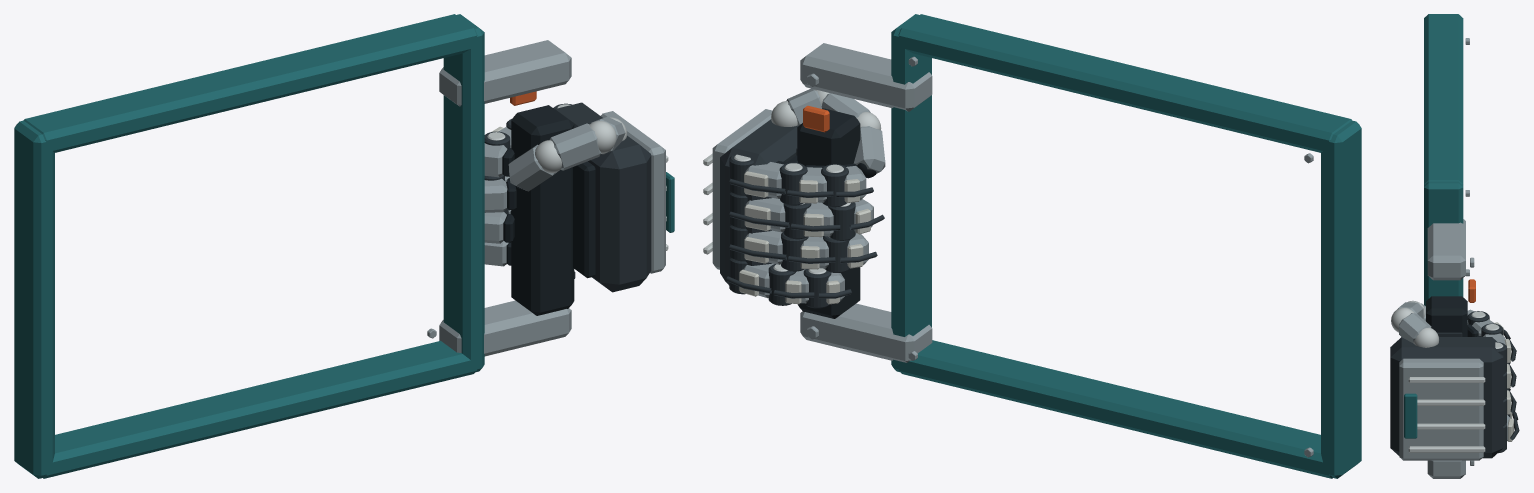
File: tool_scanner.glb
3 renders of one model, left to right at view 1: azimuth 30°, elevation 25°; view 2: azimuth 150°, elevation 25°; view 3: azimuth 270°, elevation 25°, orthographic. The views are drawn at different scales.
Parts seen in each view (by area): view 1: tool, hand; view 2: tool, hand; view 3: hand, tool.
Boxes of the visible parts, <box> form: tool: <box>14,14,575,478</box>; hand: <box>484,102,674,292</box>; tool: <box>796,14,1361,478</box>; hand: <box>703,88,885,308</box>; hand: <box>1390,300,1519,460</box>; tool: <box>1424,14,1475,478</box>.
Size of the model in its own units: 0.5195 by 0.274 by 0.1178.
